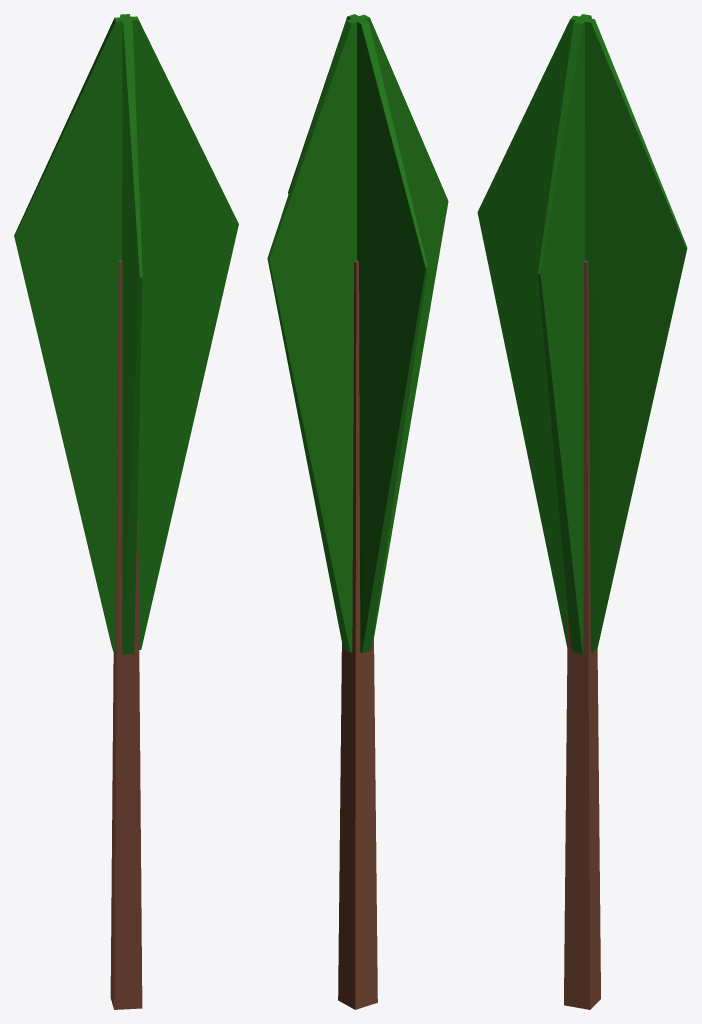
Rendered from Tree_32_summer_vc.fbx.
The picture shows the model from 3 angles, left to right: view 1: azimuth 30°, elevation 25°; view 2: azimuth 150°, elevation 25°; view 3: azimuth 270°, elevation 25°; orthographic projection.
Visible parts, largest first — view 1: Tree_32_summer_vc; view 2: Tree_32_summer_vc; view 3: Tree_32_summer_vc.
Boxes of the visible parts, bbox=[...] form: Tree_32_summer_vc: bbox=[14, 14, 238, 1009]; Tree_32_summer_vc: bbox=[267, 14, 448, 1009]; Tree_32_summer_vc: bbox=[477, 14, 687, 1009].
Size of the model in its own units: 1.27 by 6.58 by 1.27.
